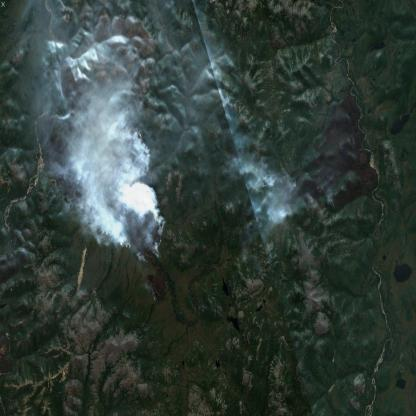fire: (34, 123, 177, 275), (240, 167, 304, 240)
